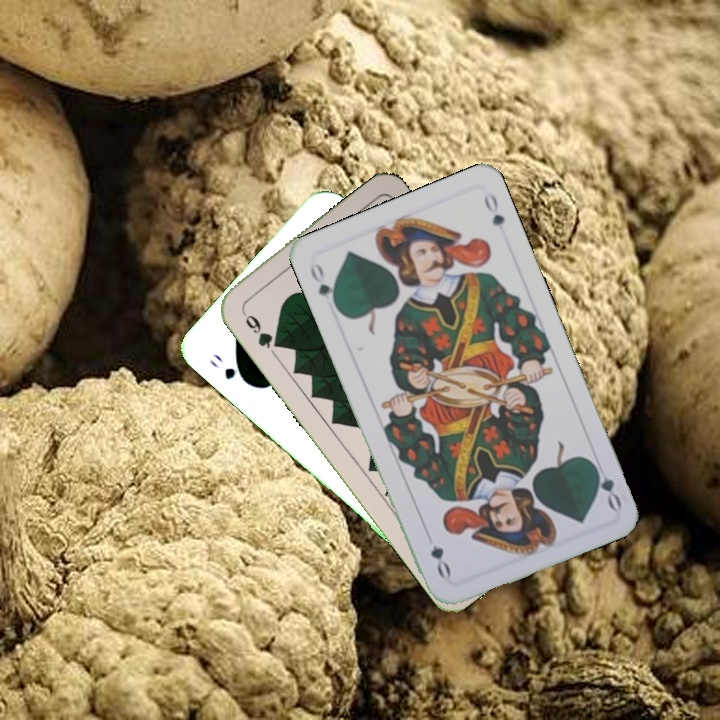G9: (237, 305, 284, 352)
GO: (587, 458, 625, 513), (306, 258, 341, 312), (205, 349, 252, 388)
